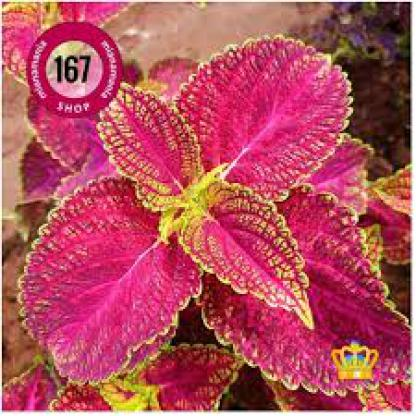Bunga Coleus: (66, 86, 358, 373)
